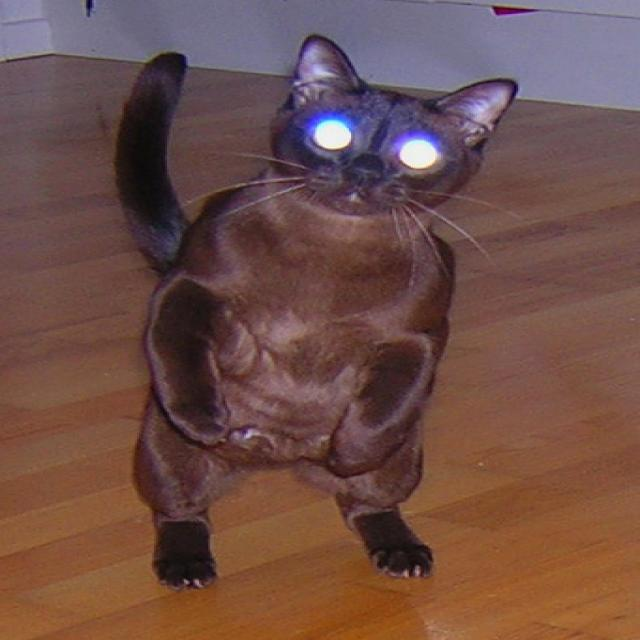left eye: (394, 134, 441, 172)
